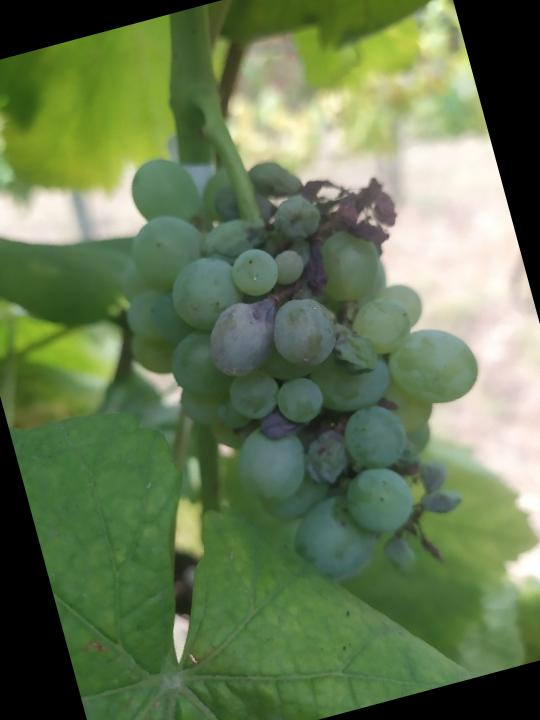grape: (82, 89, 530, 630)
